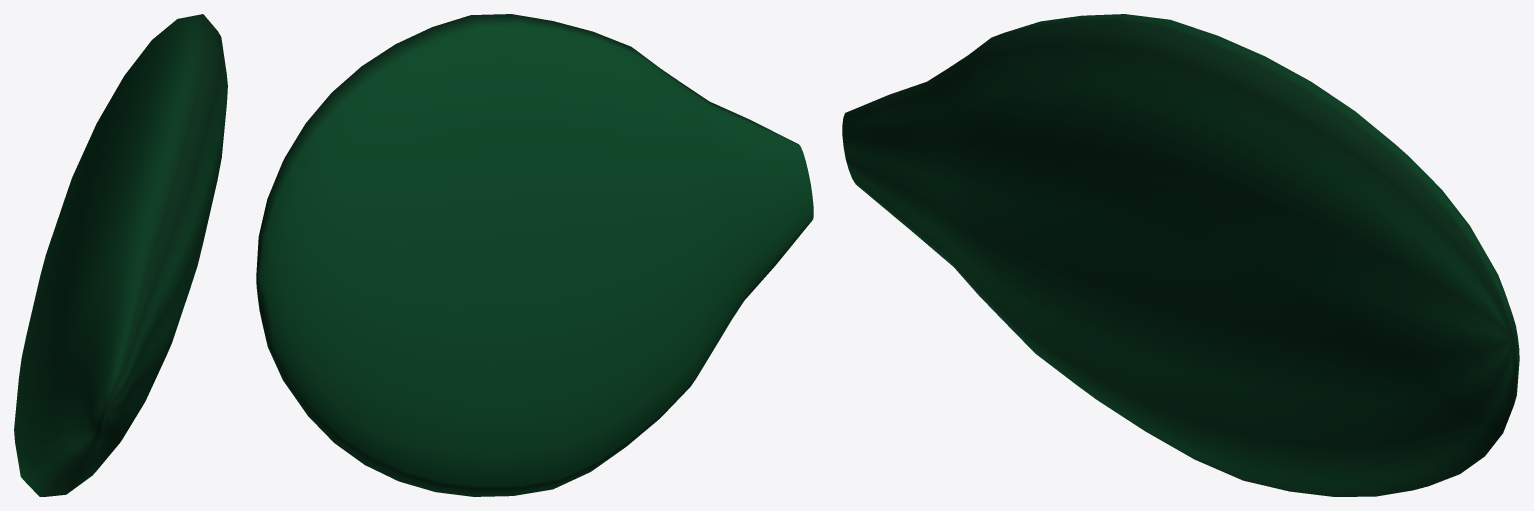
Rendered from Enemy Grouper Fin.fbx.
3 renders of one model, left to right at view 1: azimuth 30°, elevation 25°; view 2: azimuth 150°, elevation 25°; view 3: azimuth 270°, elevation 25°, orthographic. The views are drawn at different scales.
Visible parts, largest first — view 1: GrouperFin; view 2: GrouperFin; view 3: GrouperFin.
Boxes of the visible parts, bbox=[...] form: GrouperFin: bbox=[14, 14, 227, 496]; GrouperFin: bbox=[256, 14, 813, 496]; GrouperFin: bbox=[842, 14, 1519, 496].
Bounding box in the file's own units: 0.6597 × 0.8185 × 0.9535.
